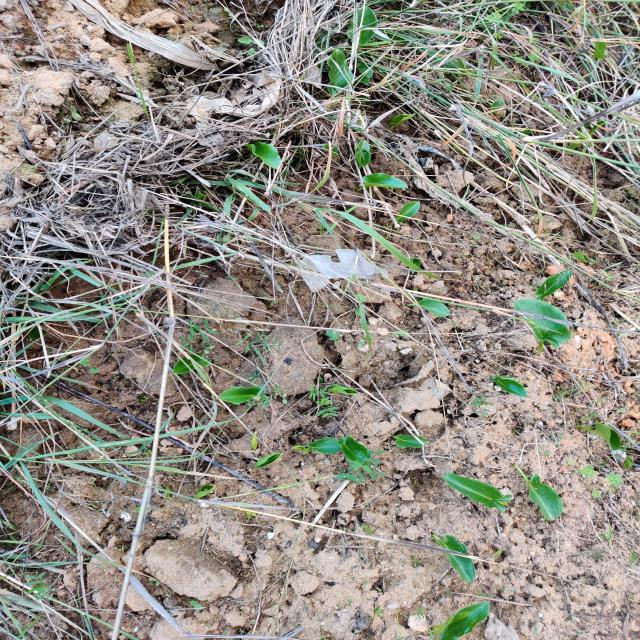litter: (293, 248, 389, 298)
